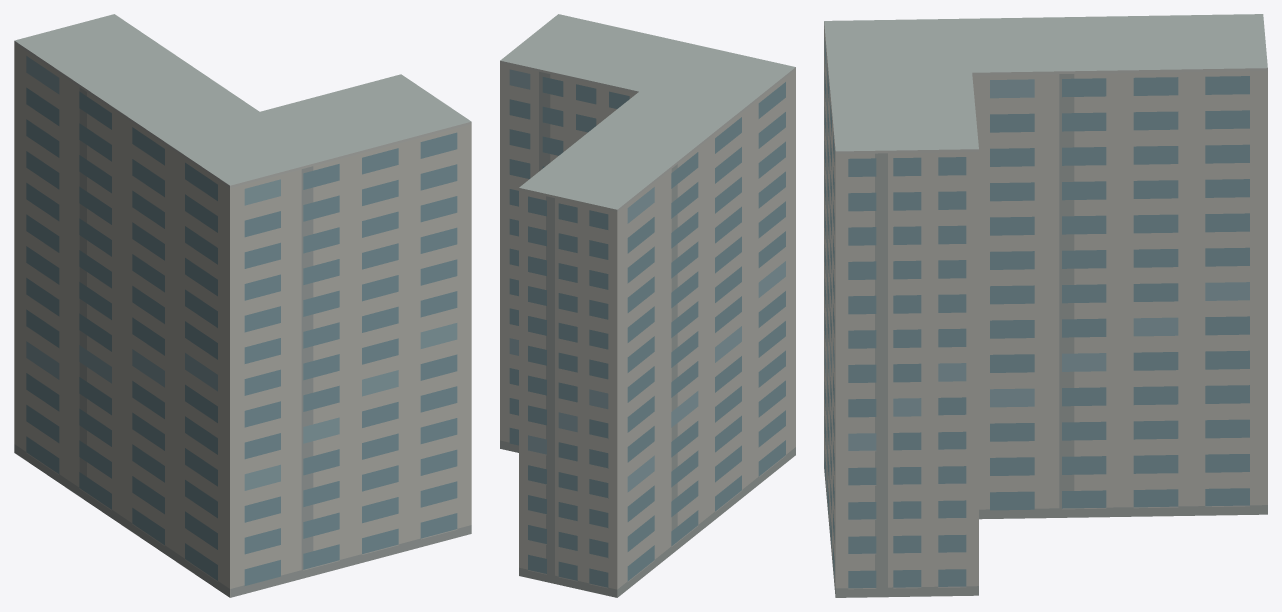
The model's file is residential-bc4be674-3d96-4488-85a8-b11891023358.glb.
The picture shows the model from 3 angles, left to right: view 1: azimuth 30°, elevation 25°; view 2: azimuth 150°, elevation 25°; view 3: azimuth 270°, elevation 25°; orthographic projection. The views are drawn at different scales.
Parts seen in each view (by area): view 1: residential-bc4be674-3d96-4488-85a8-b11891023358.tmp; view 2: residential-bc4be674-3d96-4488-85a8-b11891023358.tmp; view 3: residential-bc4be674-3d96-4488-85a8-b11891023358.tmp.
Part boxes in pixels (box(x1,y1,x2,y2)): residential-bc4be674-3d96-4488-85a8-b11891023358.tmp: box(14, 14, 471, 597); residential-bc4be674-3d96-4488-85a8-b11891023358.tmp: box(500, 14, 795, 597); residential-bc4be674-3d96-4488-85a8-b11891023358.tmp: box(824, 14, 1267, 597).
Size of the model in its own units: 26.41 by 40 by 36.05.
